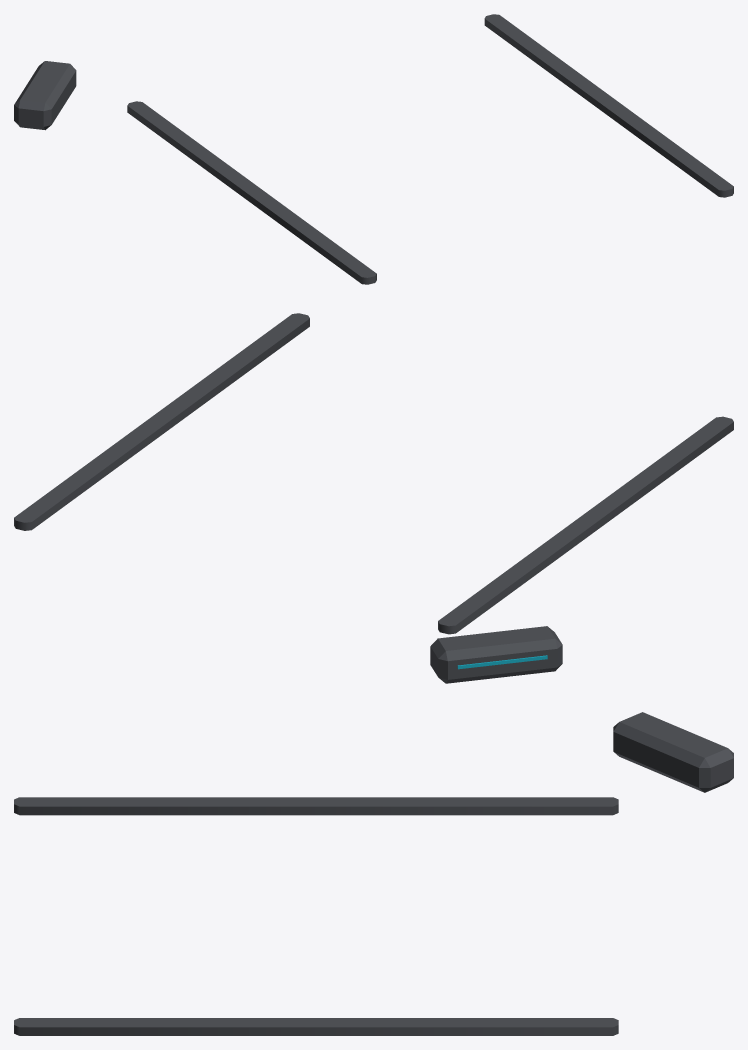
File: n10_mount.obj
The picture shows the model from 3 angles, top to bottom: view 1: azimuth 30°, elevation 25°; view 2: azimuth 150°, elevation 25°; view 3: azimuth 270°, elevation 25°; orthographic projection. The views are drawn at different scales.
Parts seen in each view (by area): view 1: n10_mount; view 2: n10_mount; view 3: n10_mount.
Boxes of the visible parts, x1,y1,x2,y2 form: n10_mount: [14, 14, 733, 284]; n10_mount: [14, 313, 733, 683]; n10_mount: [14, 712, 733, 1035].
Bounding box in the file's own units: 2.51 × 0.14 × 2.62.
